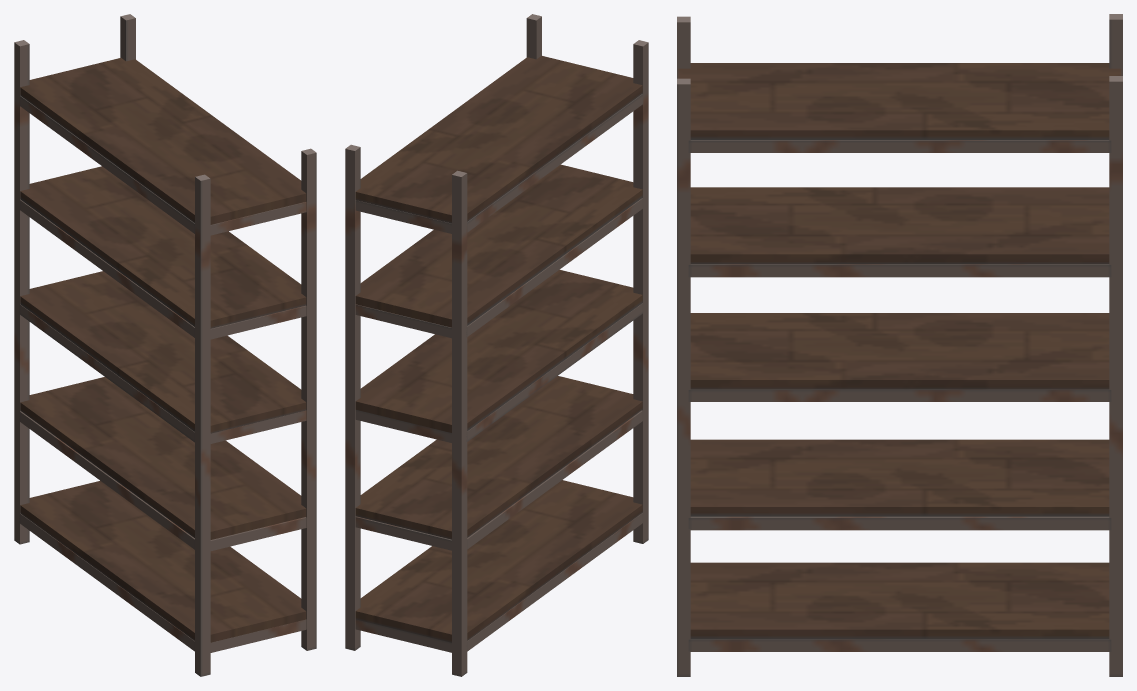
The model's file is obj_shelf.fbx.
3 renders of one model, left to right at view 1: azimuth 30°, elevation 25°; view 2: azimuth 150°, elevation 25°; view 3: azimuth 270°, elevation 25°, orthographic. The views are drawn at different scales.
Visible parts, largest first — view 1: obj_shelf; view 2: obj_shelf; view 3: obj_shelf.
Boxes of the visible parts, x1=… form: obj_shelf: x1=14, y1=14, x2=316, y2=676; obj_shelf: x1=345, y1=14, x2=648, y2=676; obj_shelf: x1=677, y1=14, x2=1122, y2=676.
Bounding box in the file's own units: 34.4 × 141 × 95.8.
